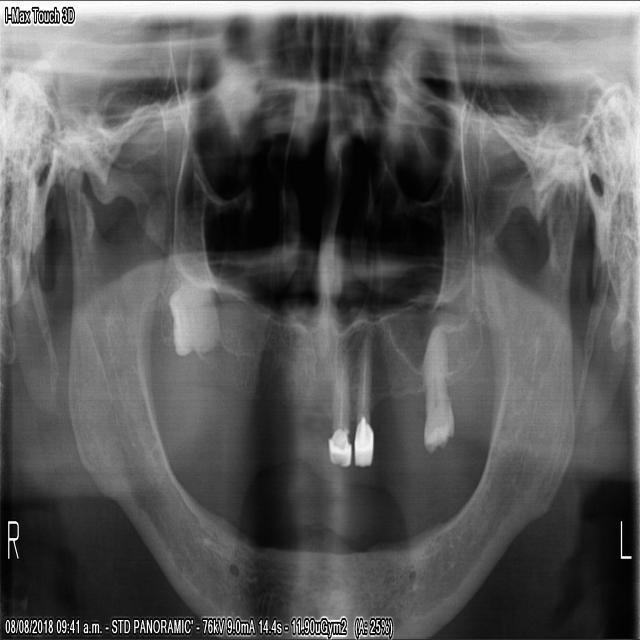LIU: (350, 326, 375, 473), (324, 344, 351, 476)
LMU: (417, 325, 455, 460)
RMU: (164, 270, 222, 361)
